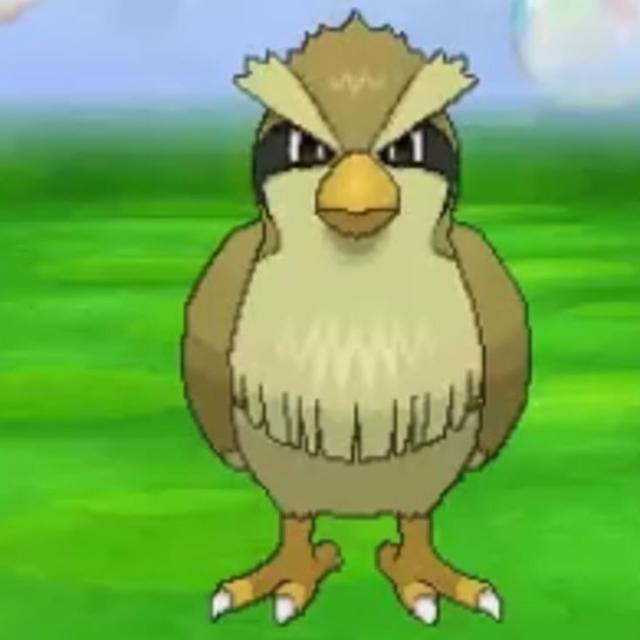Pidgey: (189, 16, 523, 615)
